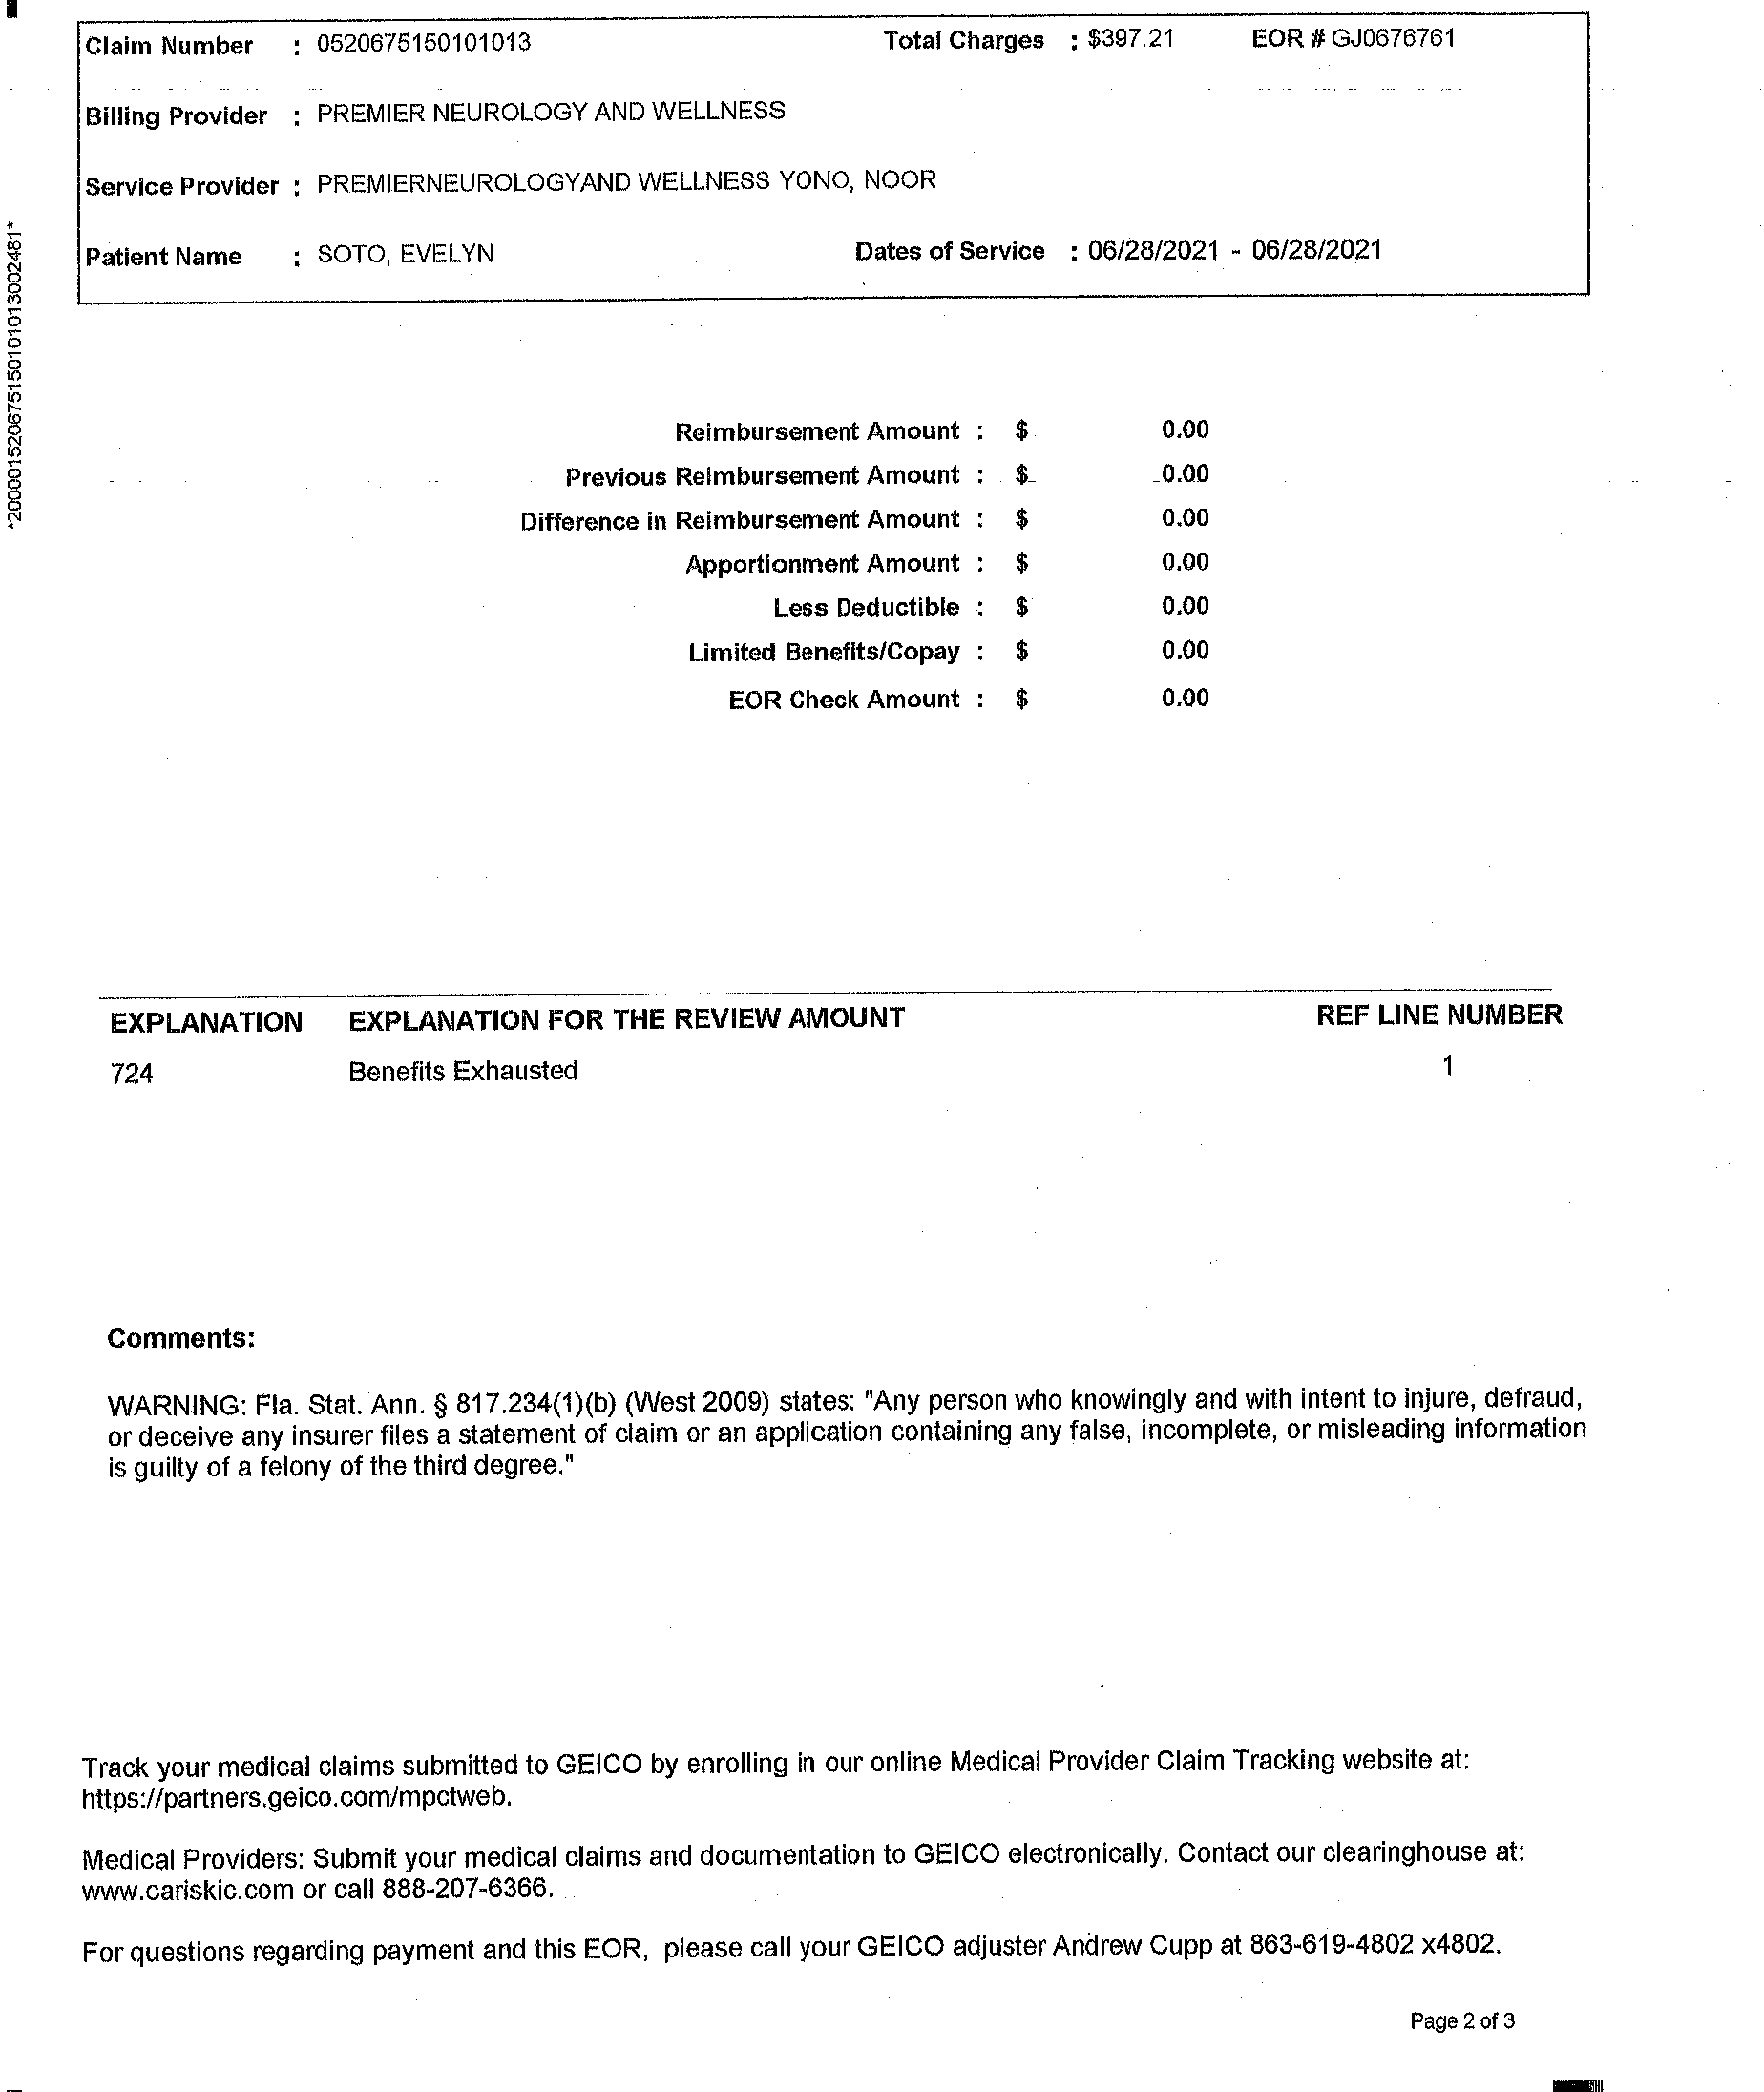data: (507, 374, 1241, 735), (80, 37, 859, 271)
